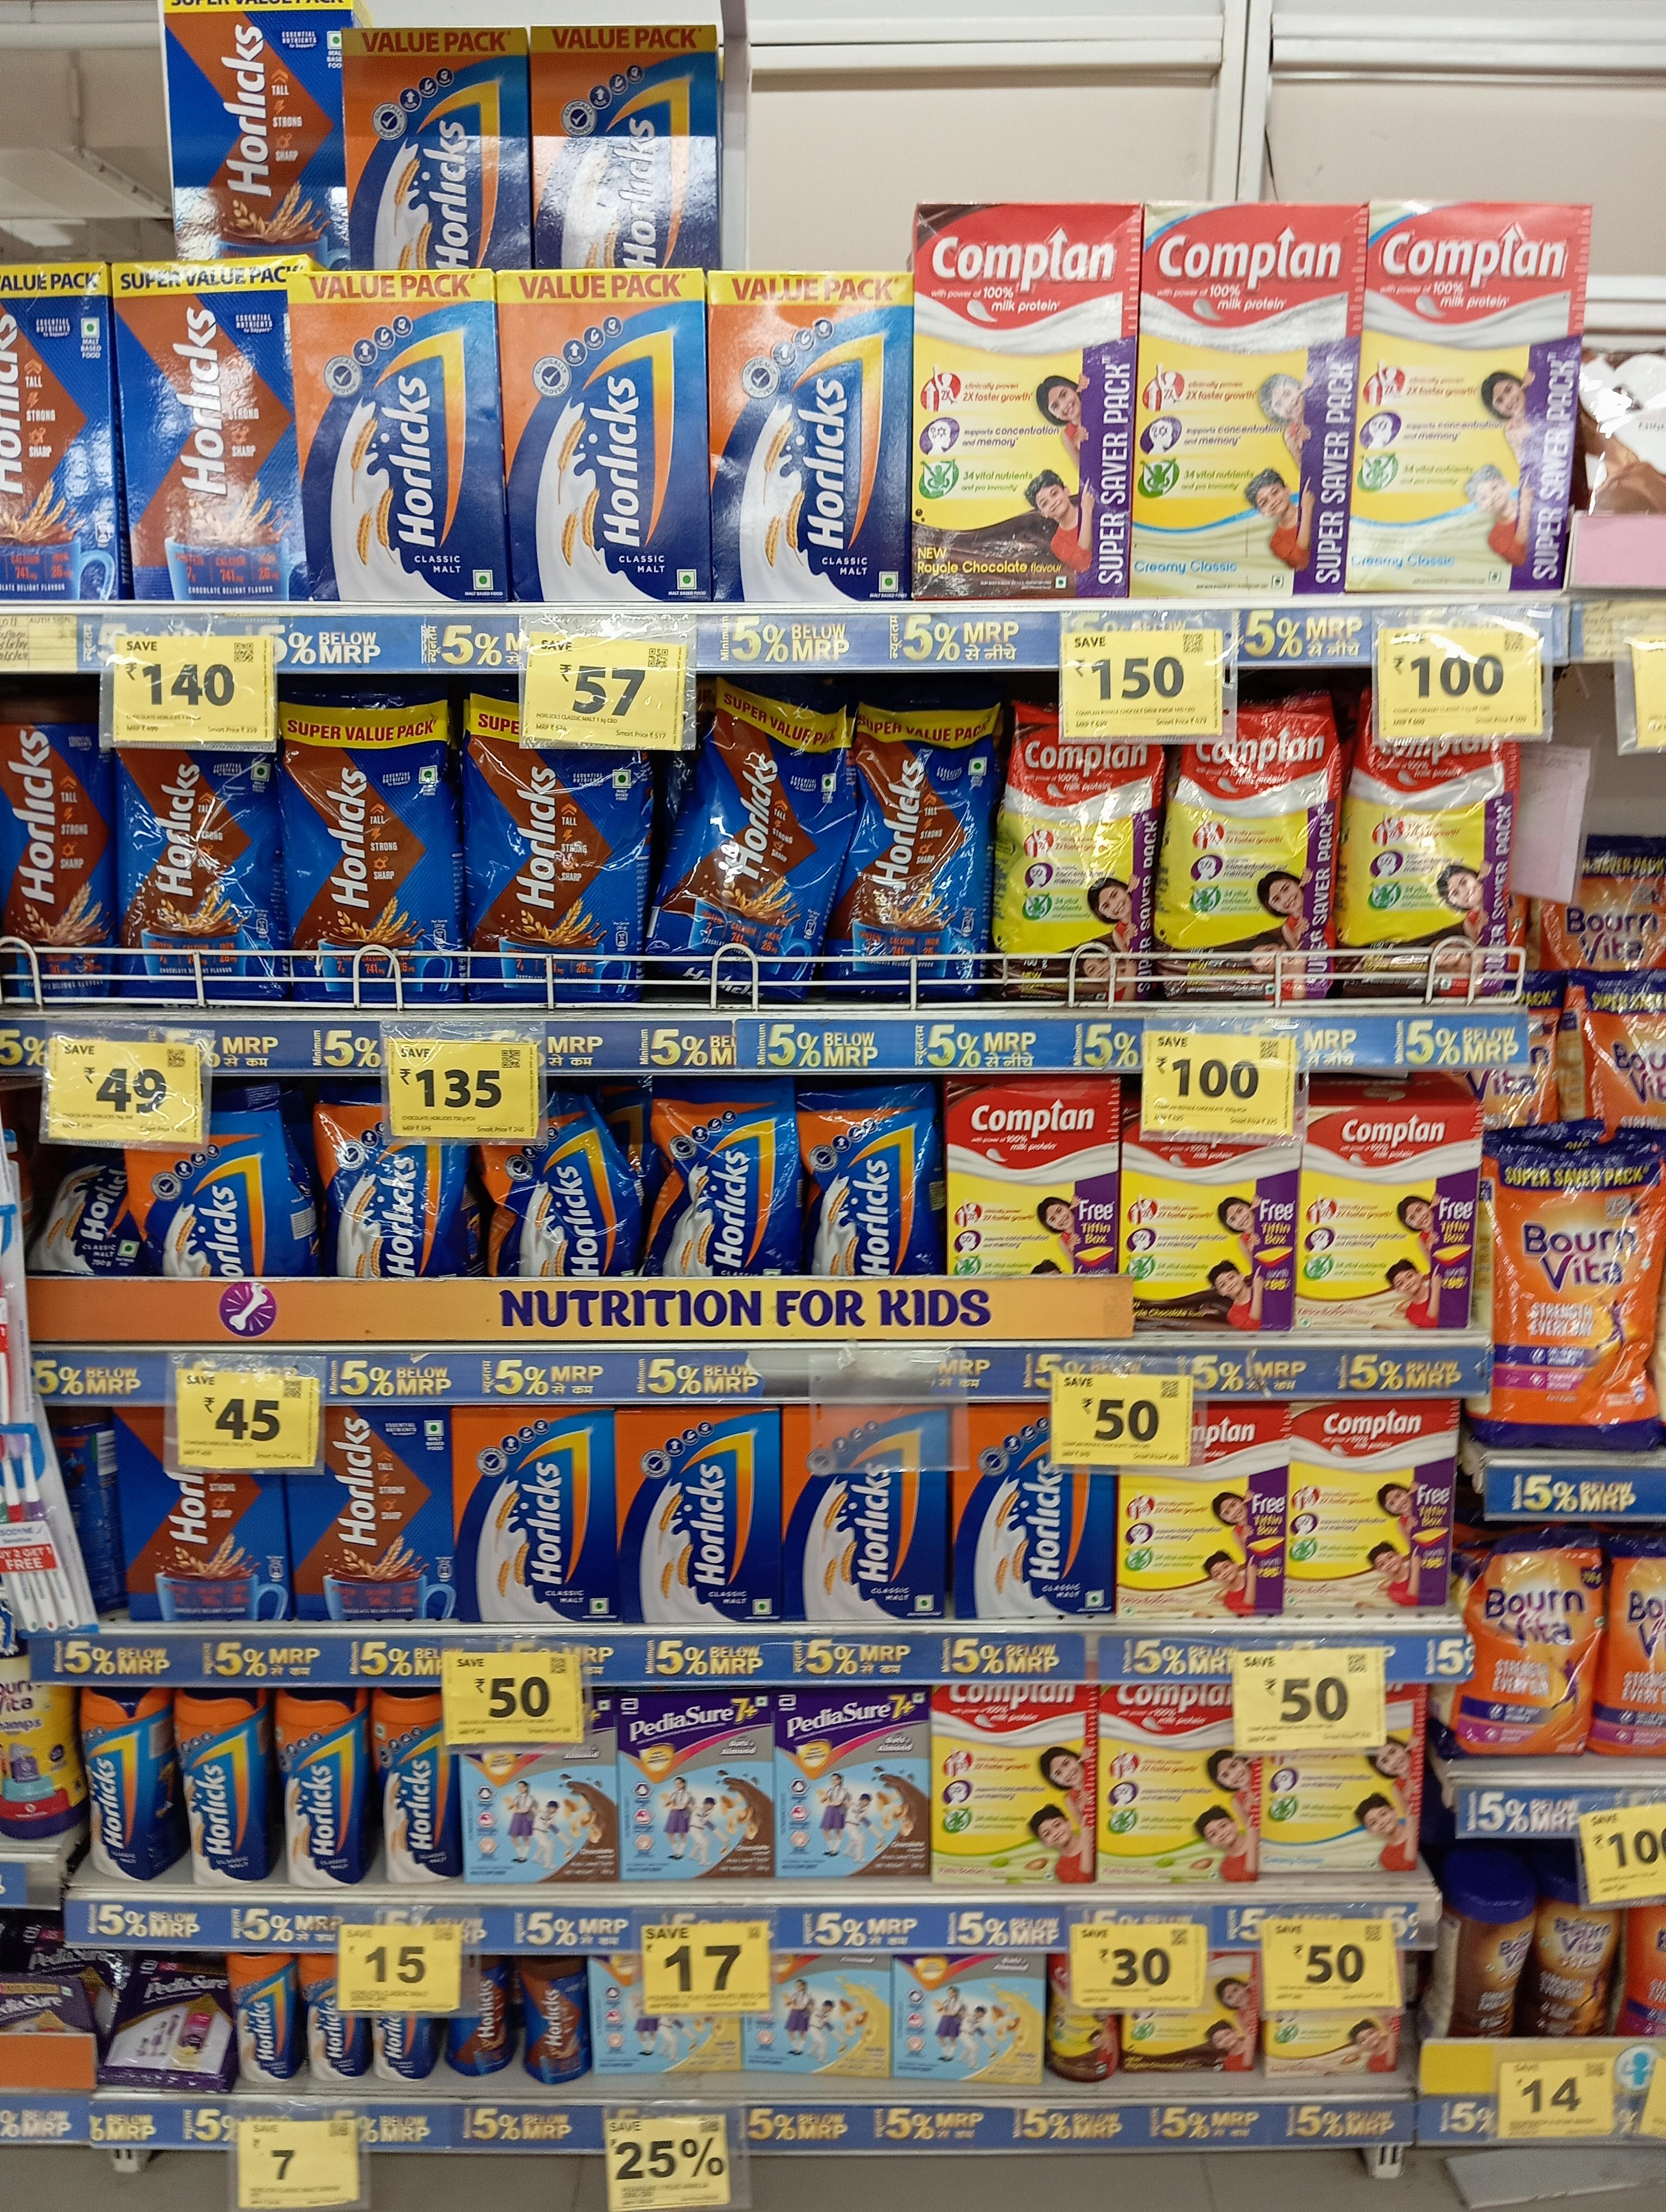COMPLAN_CHOCOLATE_1_KG_PACK: (917, 203, 1134, 598)
COMPLAN_CHOCOLATE_500_GMS_PACK: (1123, 1131, 1290, 1336)
COMPLAN_KESAR_BADAM_500_GMS_PACK: (1302, 1098, 1475, 1325), (1290, 1402, 1451, 1607), (1118, 1467, 1279, 1612)
COMPLAN_PISTA_BADAM_500_GMS_PACK: (929, 1682, 1096, 1889), (1101, 1689, 1249, 1883)
COMPLAN_RC_POUCH_700_GMS_12: (1164, 740, 1332, 1004), (992, 740, 1157, 998), (1346, 736, 1509, 993)
HORLICK_CHOCOLATE_200_G_JAR: (523, 1957, 590, 2081), (455, 1962, 509, 2069)
